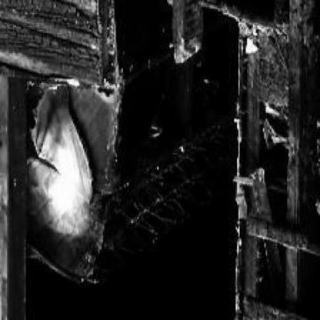other: (46, 142, 82, 210)
